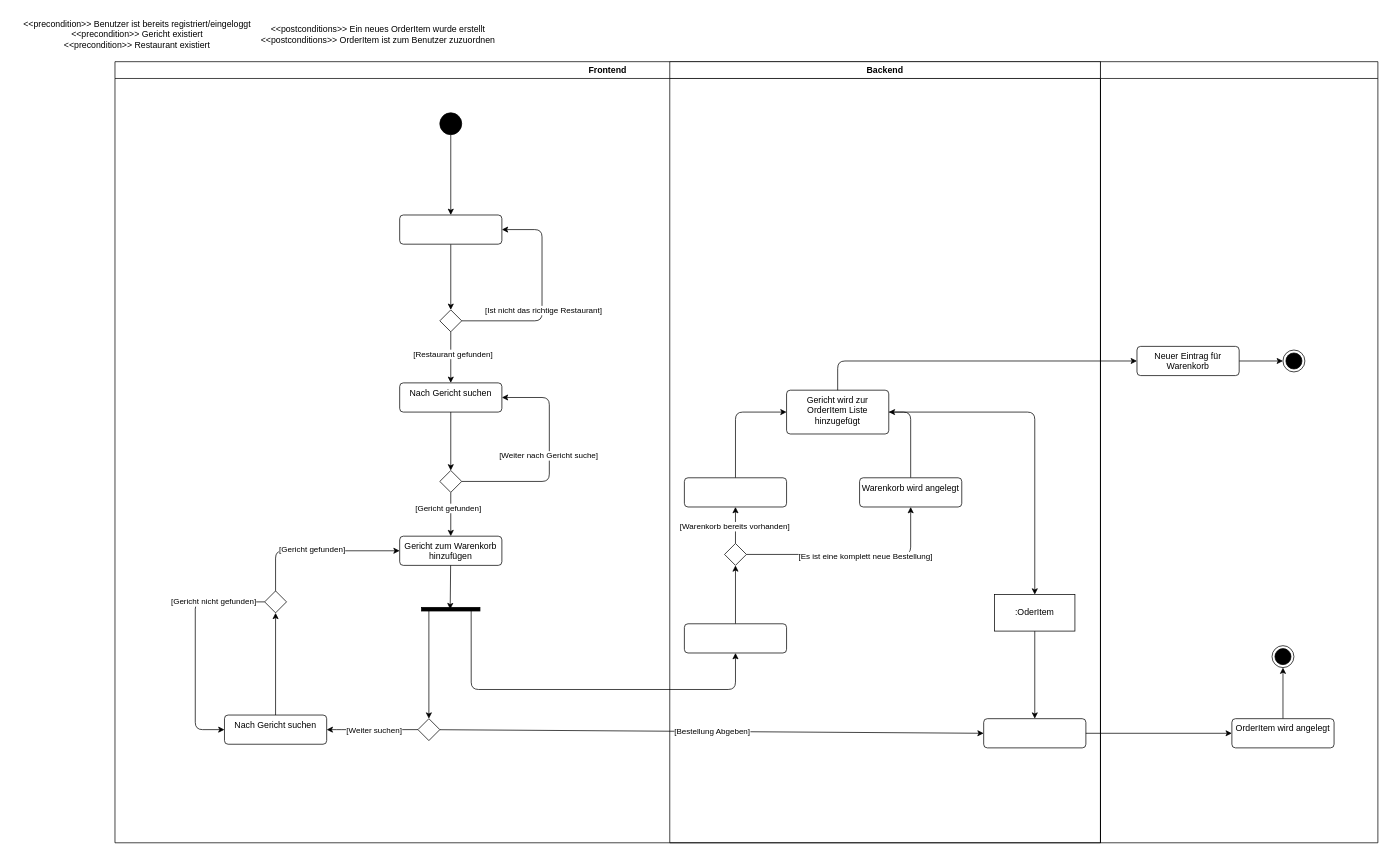
Image size: 1391x856. Some labels were removed from this diagram. Here are the shapes that lost their labels. From the top down, the box of each, then its label:
(399, 214, 502, 244): Restaurant suchen
(1100, 61, 1378, 843): Database
(684, 477, 787, 507): Gericht wird zum Warenkorb hinzugefügt
(684, 623, 787, 653): Eingabe wird geprüft
(983, 718, 1086, 748): OrderItem zu Lieferant senden
